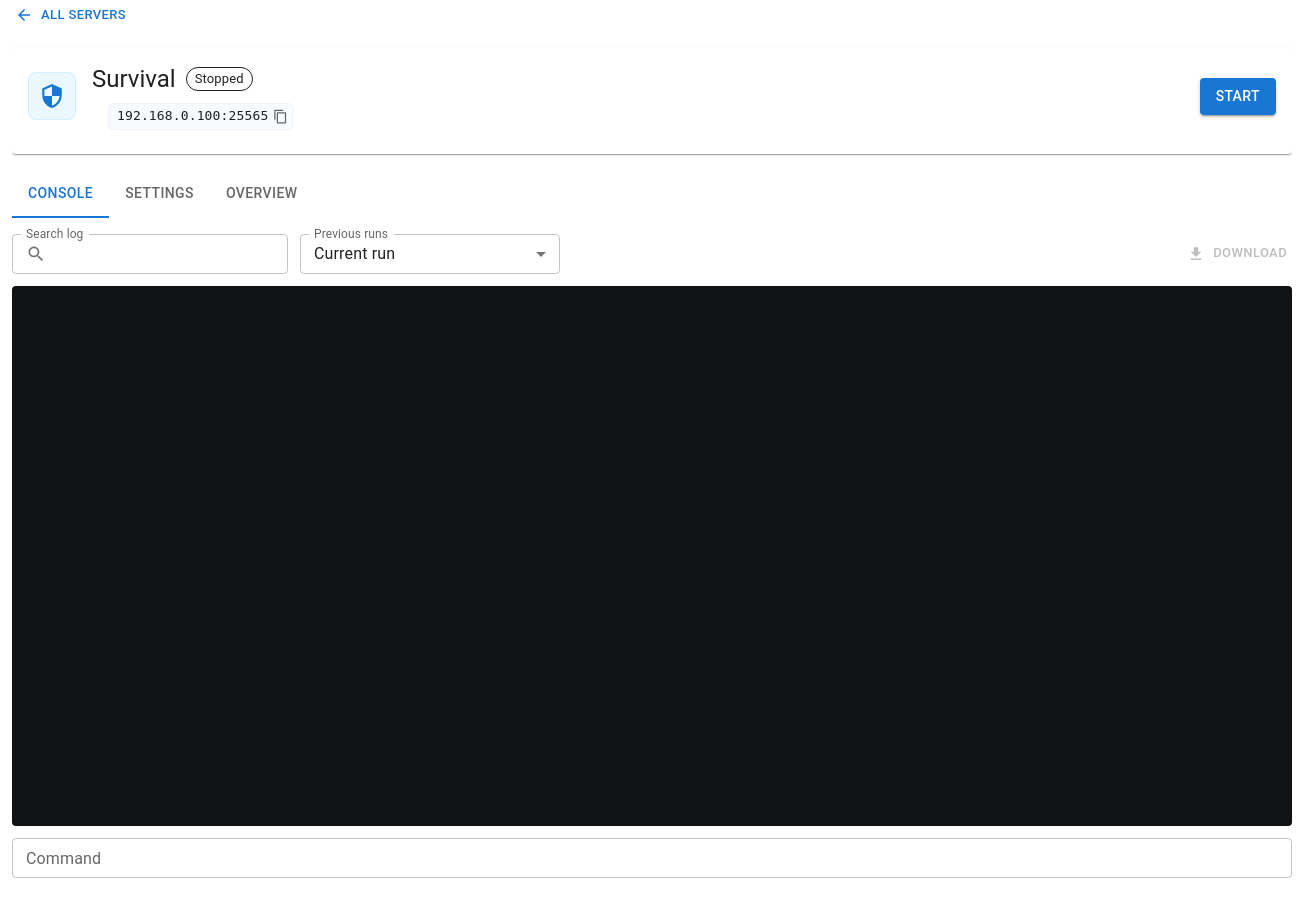
ServerPage › switching tabs with unsaved Settings edits asks to discard
The image size is (1304, 900).
Click the tab "Settings".
click(160, 194)  # box [109, 170, 210, 218]
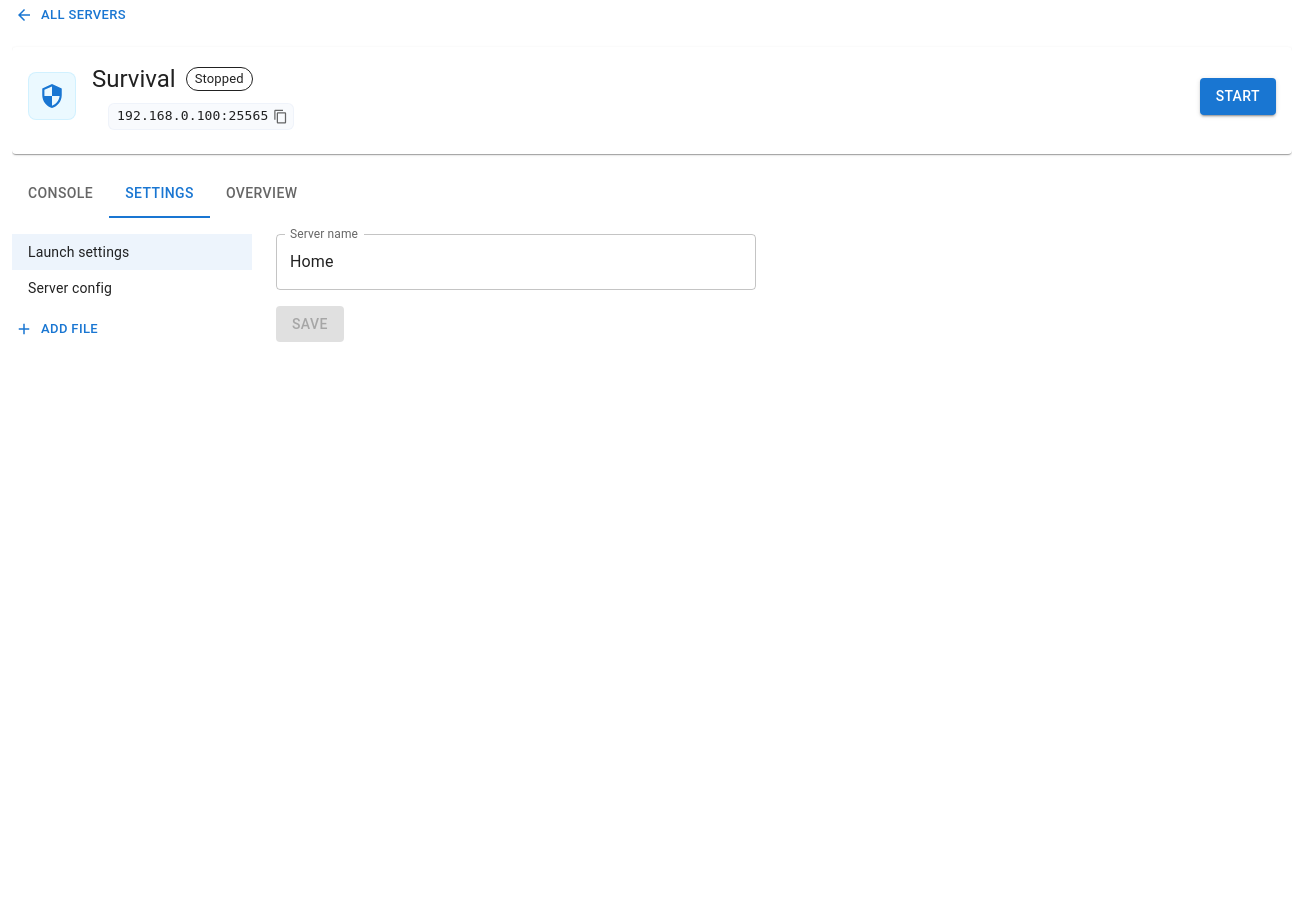
Type "2" into the field labelled "Server name".
click(516, 262); type("2")  # box [276, 234, 756, 290]
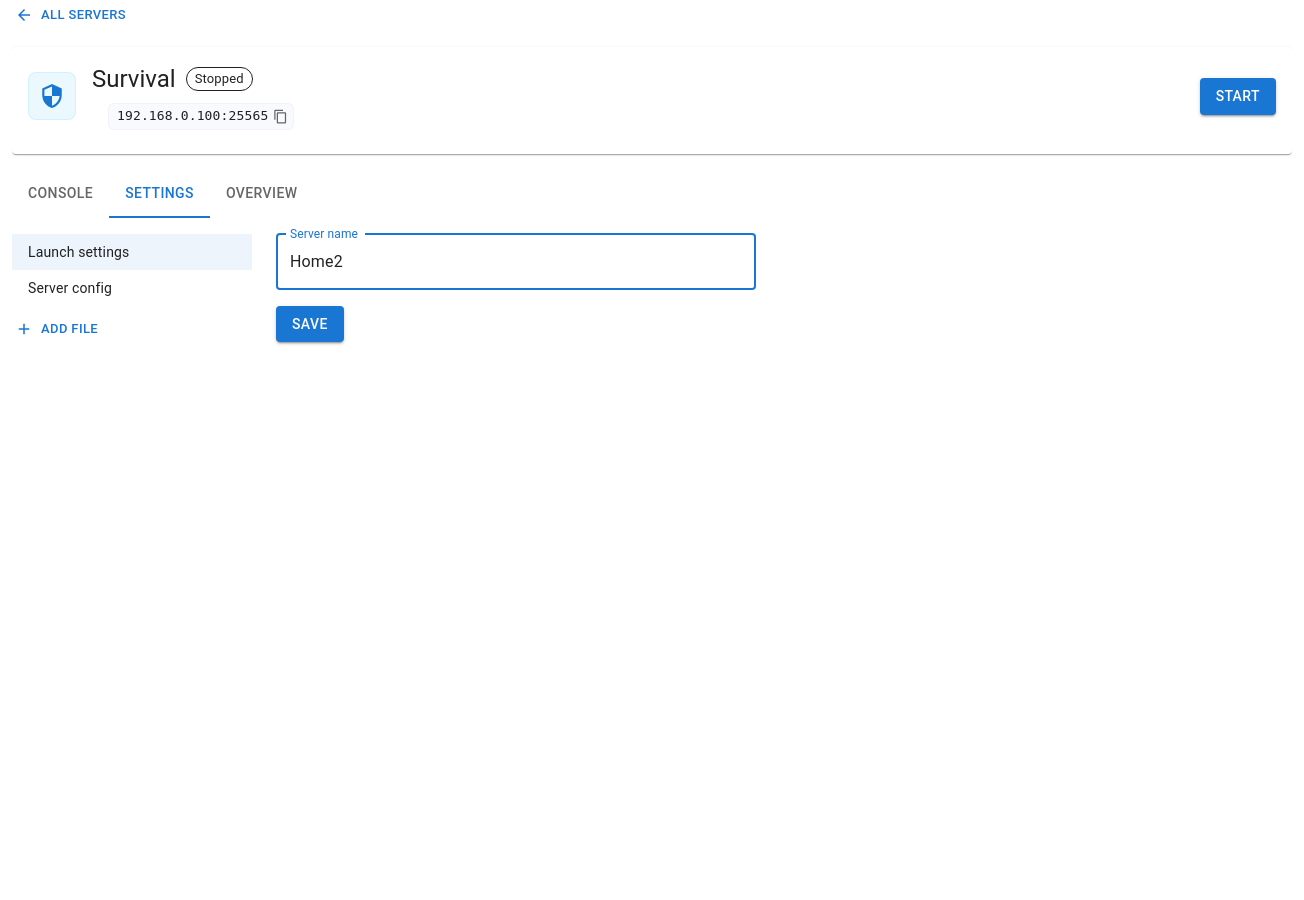
Click the tab "Console".
click(61, 194)  # box [12, 170, 109, 218]
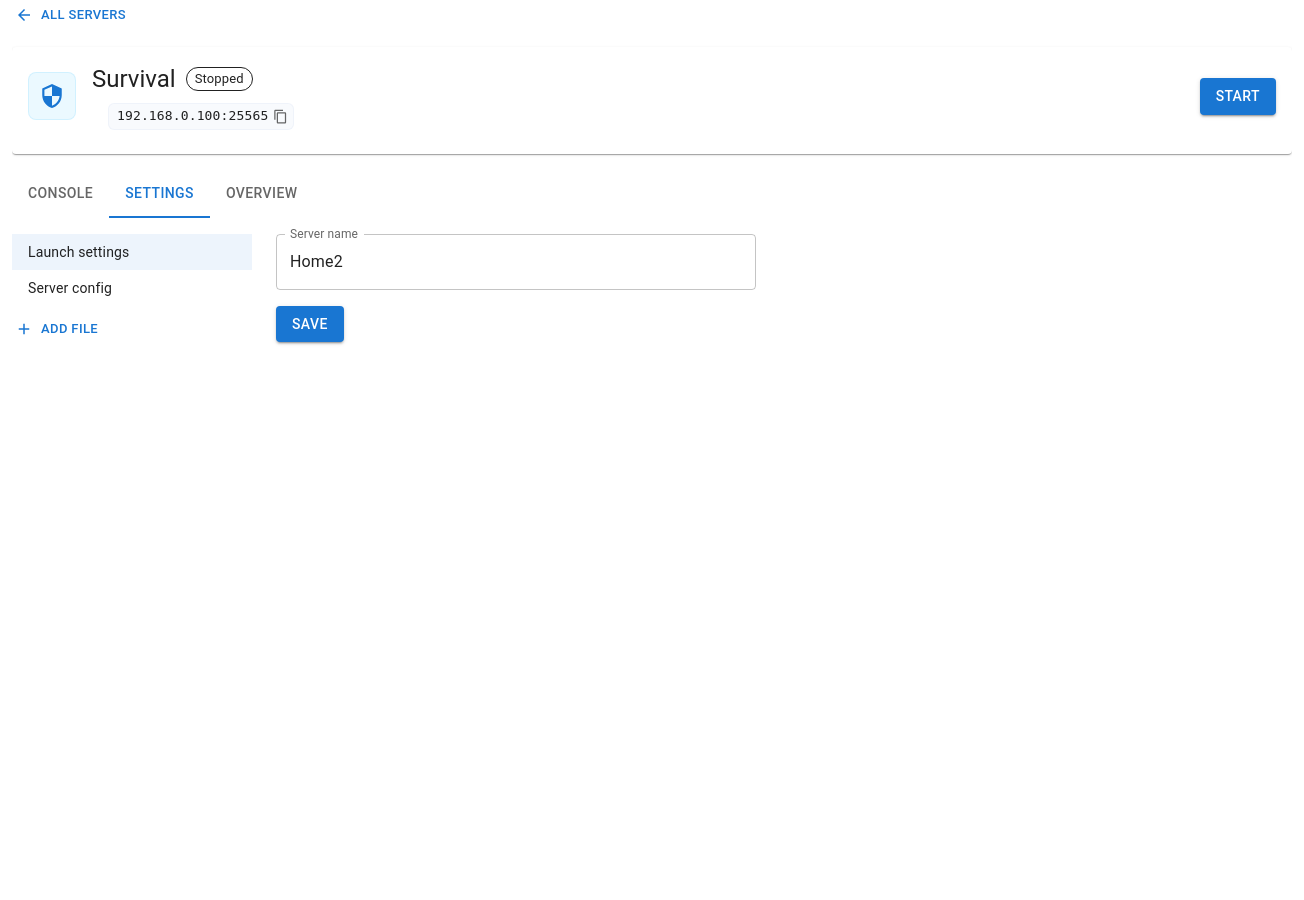
Expected: the field labelled "Server name" holds "Home2", [276, 234, 756, 290]
Click the tab "Console".
click(61, 194)  # box [12, 170, 109, 218]
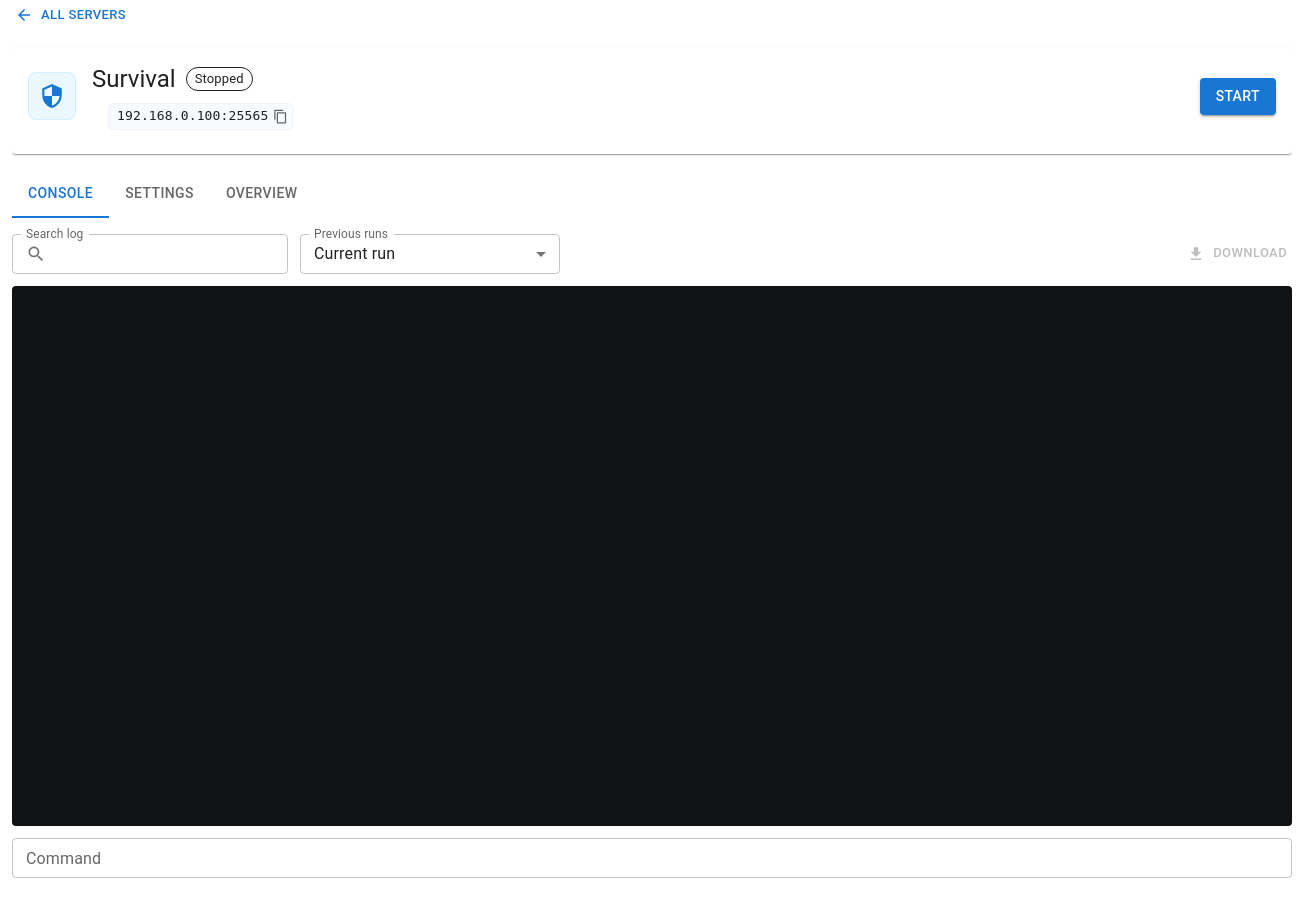
Expected: the label "Server name" is gone
